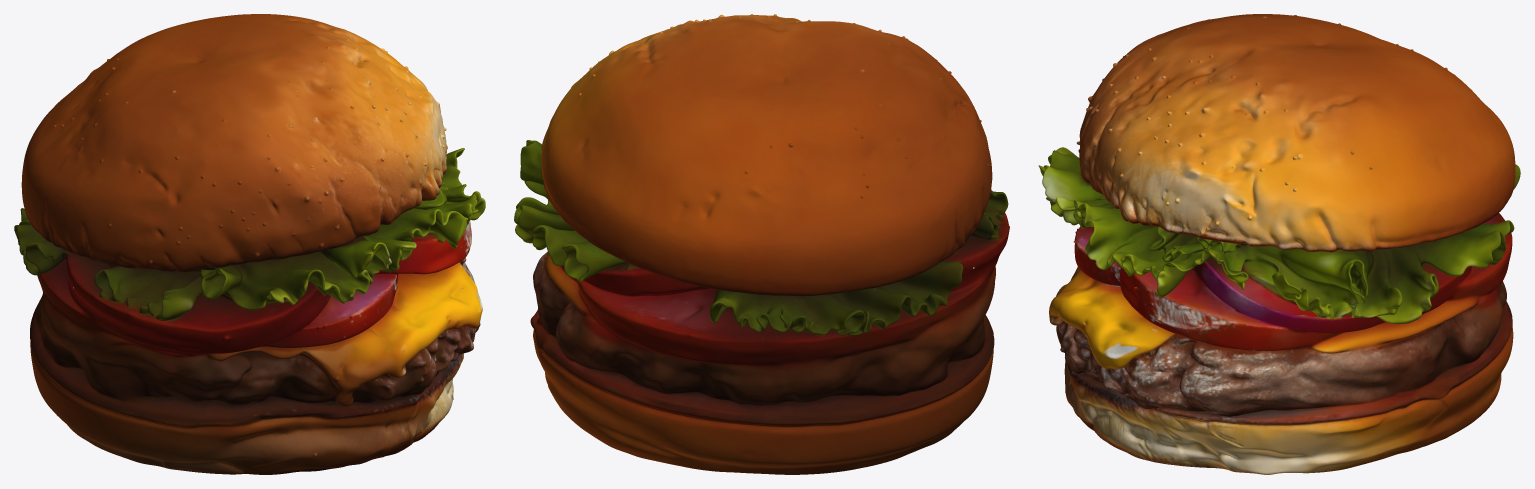
Rendered from hamburger 3d model.glb.
3 renders of one model, left to right at view 1: azimuth 30°, elevation 25°; view 2: azimuth 150°, elevation 25°; view 3: azimuth 270°, elevation 25°, orthographic. The views are drawn at different scales.
Parts seen in each view (by area): view 1: tripo_node_eee47e00-e98e-4972-a1c8-d3b123449d00; view 2: tripo_node_eee47e00-e98e-4972-a1c8-d3b123449d00; view 3: tripo_node_eee47e00-e98e-4972-a1c8-d3b123449d00.
Part boxes in pixels (x1=…): tripo_node_eee47e00-e98e-4972-a1c8-d3b123449d00: x1=14, y1=14, x2=485, y2=474; tripo_node_eee47e00-e98e-4972-a1c8-d3b123449d00: x1=514, y1=14, x2=1009, y2=474; tripo_node_eee47e00-e98e-4972-a1c8-d3b123449d00: x1=1038, y1=14, x2=1520, y2=474.
Size of the model in its own units: 0.98 by 0.7922 by 0.977.
Materials: 1 (1 with a texture image).
